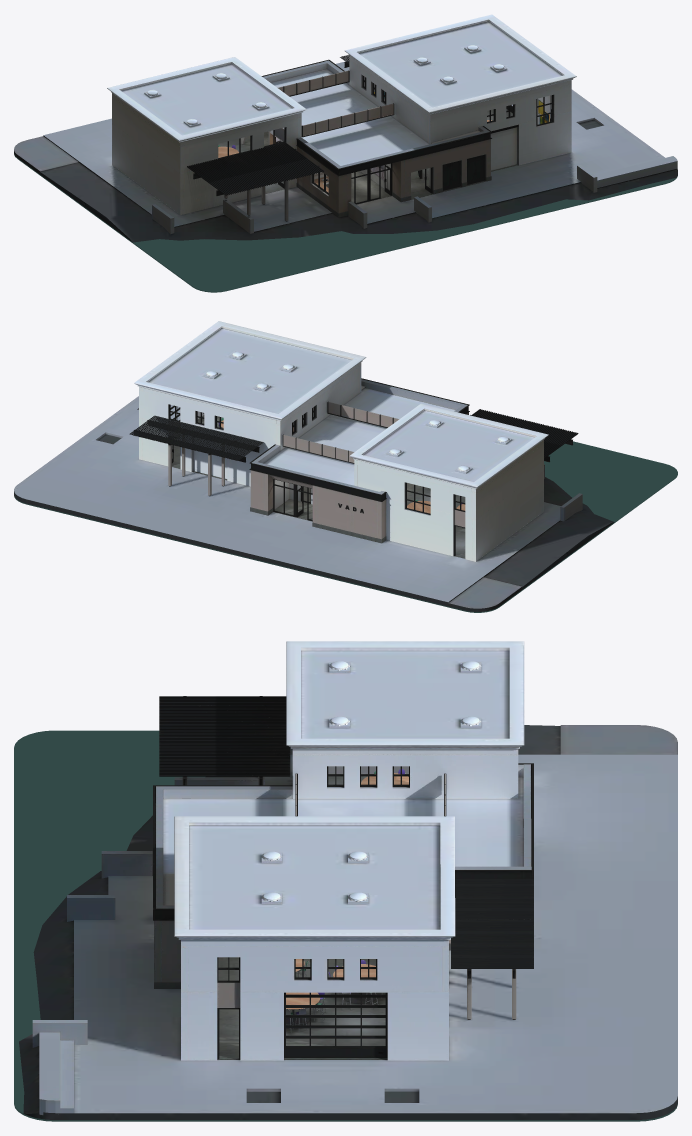
The model's file is Exhibition-transformed.glb.
3 views of the same model, one above another, from view 1: azimuth 30°, elevation 25°; view 2: azimuth 150°, elevation 25°; view 3: azimuth 270°, elevation 25° (orthographic). The views are drawn at different scales.
Parts seen in each view (by area): view 1: base_Material #32290_0, roof_Material #32278_0, base bottom_Material #32289_0, walls_B_Material #32280_0, walls_A_Material #32281_0, walls_C_Material #32270_0, roofrack_B_Material #32282_0, concrete_Material #32275_0, structural_Material #32273_0, windowframes_Material #32279_0, floor_Material #32287_0, doors_Material #32272_0 (+1 smaller); view 2: base_Material #32290_0, roof_Material #32278_0, walls_A_Material #32281_0, walls_B_Material #32280_0, walls_C_Material #32270_0, base bottom_Material #32289_0, roofrack_B_Material #32282_0, structural_Material #32273_0, windowframes_Material #32279_0, floor_Material #32287_0, ceiling props_Material #32277_0; view 3: base_Material #32290_0, roof_Material #32278_0, base bottom_Material #32289_0, walls_B_Material #32280_0, roofrack_B_Material #32282_0, walls_A_Material #32281_0, concrete_Material #32275_0, floor_Material #32287_0, windowframes_Material #32279_0, walls_C_Material #32270_0, structural_Material #32273_0, ceiling props_Material #32277_0 (+1 smaller).
Part boxes in pixels (bbox=[...]): base_Material #32290_0: bbox=[14, 61, 677, 242]; roof_Material #32278_0: bbox=[107, 14, 576, 165]; base bottom_Material #32289_0: bbox=[14, 154, 677, 292]; walls_B_Material #32280_0: bbox=[349, 21, 571, 201]; walls_A_Material #32281_0: bbox=[112, 93, 301, 215]; walls_C_Material #32270_0: bbox=[263, 55, 489, 217]; roofrack_B_Material #32282_0: bbox=[187, 55, 349, 195]; concrete_Material #32275_0: bbox=[152, 156, 677, 234]; structural_Material #32273_0: bbox=[193, 59, 518, 221]; windowframes_Material #32279_0: bbox=[218, 70, 553, 204]; floor_Material #32287_0: bbox=[218, 109, 517, 217]; doors_Material #32272_0: bbox=[278, 118, 551, 195]; base_Material #32290_0: bbox=[14, 396, 614, 611]; roof_Material #32278_0: bbox=[134, 321, 548, 488]; walls_A_Material #32281_0: bbox=[354, 440, 543, 561]; walls_B_Material #32280_0: bbox=[139, 328, 361, 486]; walls_C_Material #32270_0: bbox=[250, 364, 468, 543]; base bottom_Material #32289_0: bbox=[14, 441, 677, 612]; roofrack_B_Material #32282_0: bbox=[129, 409, 578, 460]; structural_Material #32273_0: bbox=[134, 378, 572, 501]; windowframes_Material #32279_0: bbox=[168, 401, 465, 555]; floor_Material #32287_0: bbox=[172, 415, 465, 558]; ceiling props_Material #32277_0: bbox=[203, 351, 511, 473]; base_Material #32290_0: bbox=[19, 725, 677, 1119]; roof_Material #32278_0: bbox=[163, 641, 524, 939]; base bottom_Material #32289_0: bbox=[14, 730, 677, 1121]; walls_B_Material #32280_0: bbox=[154, 850, 448, 1060]; roofrack_B_Material #32282_0: bbox=[159, 696, 533, 968]; walls_A_Material #32281_0: bbox=[292, 749, 518, 798]; concrete_Material #32275_0: bbox=[32, 747, 292, 1115]; floor_Material #32287_0: bbox=[154, 774, 450, 1059]; windowframes_Material #32279_0: bbox=[217, 766, 446, 1059]; walls_C_Material #32270_0: bbox=[155, 764, 531, 949]; structural_Material #32273_0: bbox=[153, 696, 533, 1019]; ceiling props_Material #32277_0: bbox=[163, 661, 481, 905].
Size of the model in its own units: 40.69 by 6.7 by 29.31.
Materials: 22 (22 with a texture image).
